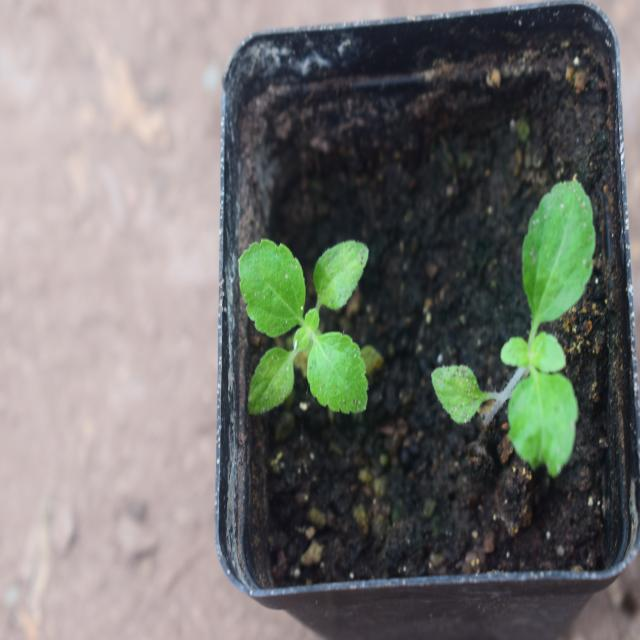billygoat_weed: (444, 169, 607, 483), (197, 210, 391, 428)
